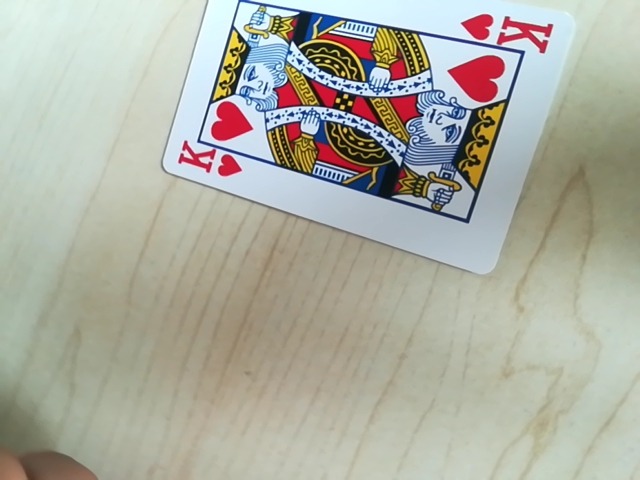hx k: (462, 10, 557, 53), (172, 144, 245, 181)
